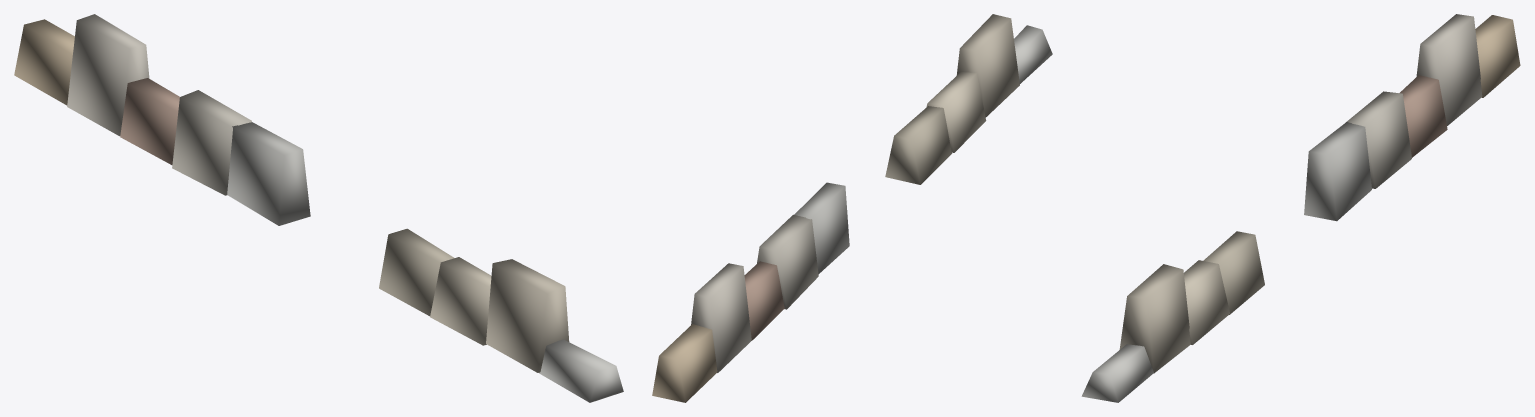
File: farm_13_1_far.glb
3 views of the same model, side by side, from view 1: azimuth 30°, elevation 25°; view 2: azimuth 150°, elevation 25°; view 3: azimuth 330°, elevation 25° (orthographic). The views are drawn at different scales.
Visible parts, largest first — view 1: geometry_0; view 2: geometry_0; view 3: geometry_0.
Part boxes in pixels (bbox=[...]): geometry_0: bbox=[14, 14, 623, 402]; geometry_0: bbox=[652, 14, 1052, 402]; geometry_0: bbox=[1081, 14, 1520, 402].
Bounding box in the file's own units: 2.02 × 1.77 × 16.2.
